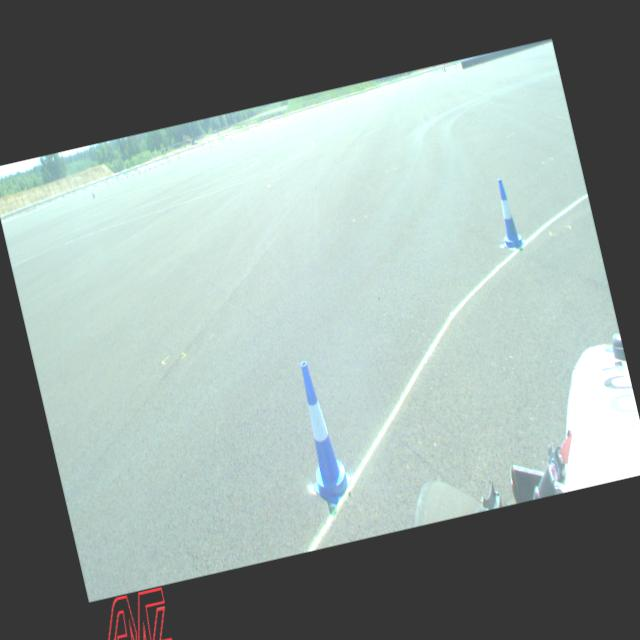blue_cone: (284, 356, 357, 508), (488, 176, 526, 250)
